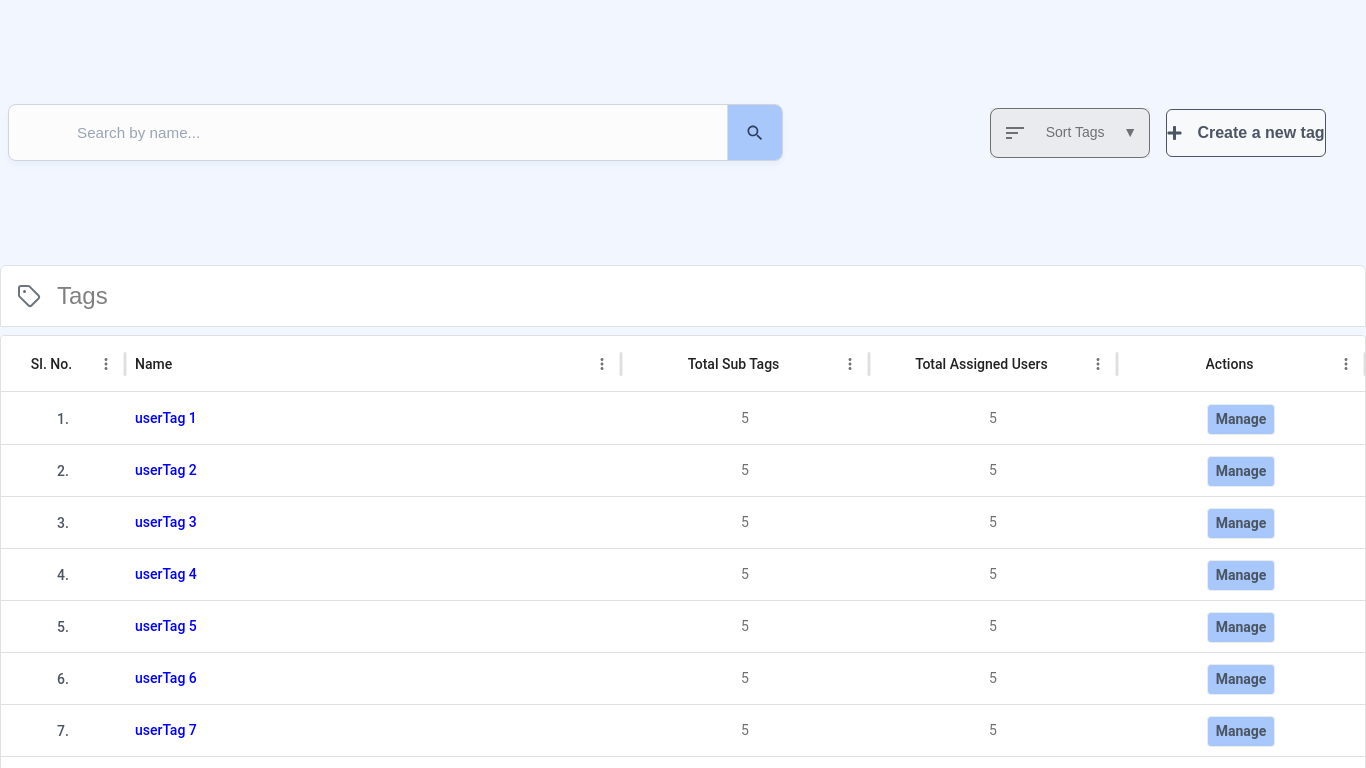
Organisation Tags Page › searchs for tags where the name matches the provided search input
The image size is (1366, 768).
Type "searchUserTag" into the search field with placeholder "Search by name...".
click(360, 132); type("searchUserTag")  # box [29,124,691,141]
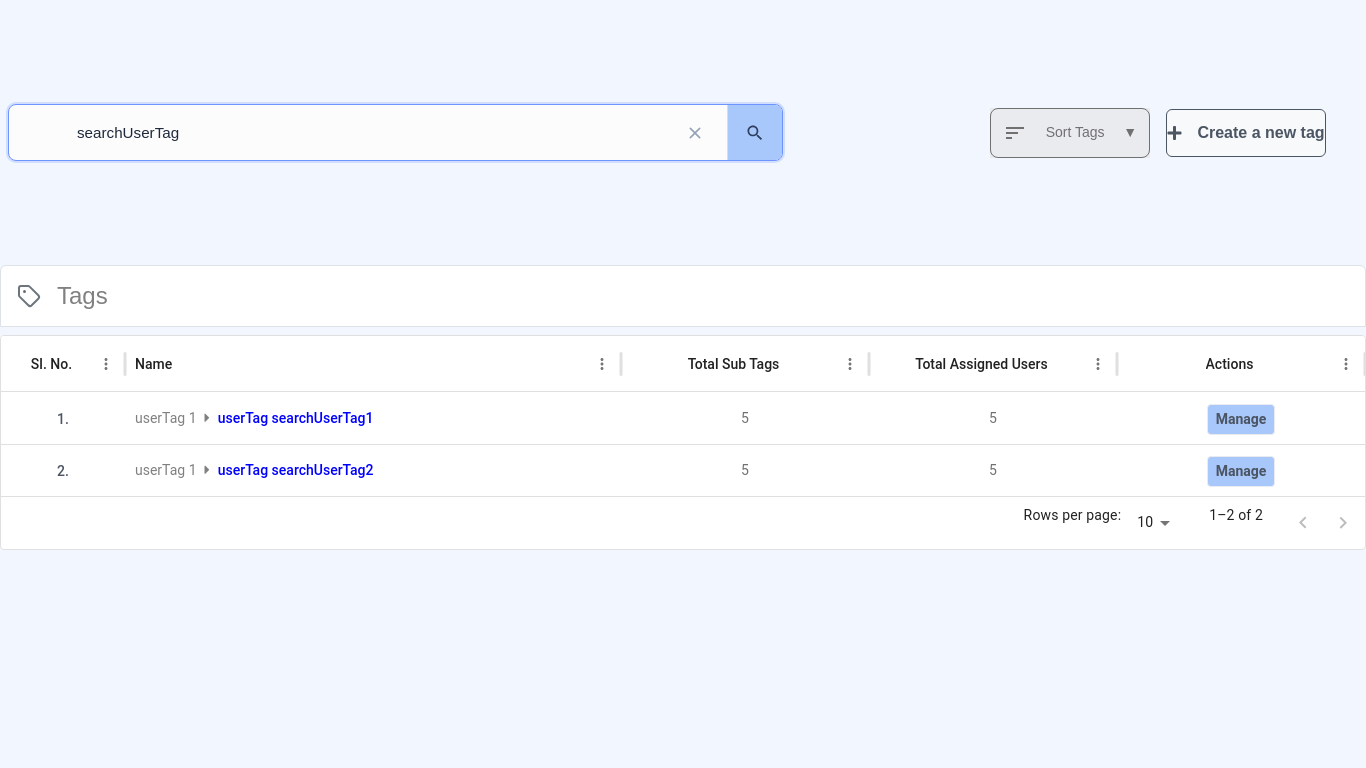
Expected: the number of buttons with test id "manageTagBtn" is 2, [1207,404,1275,435]; [1207,456,1275,487]
